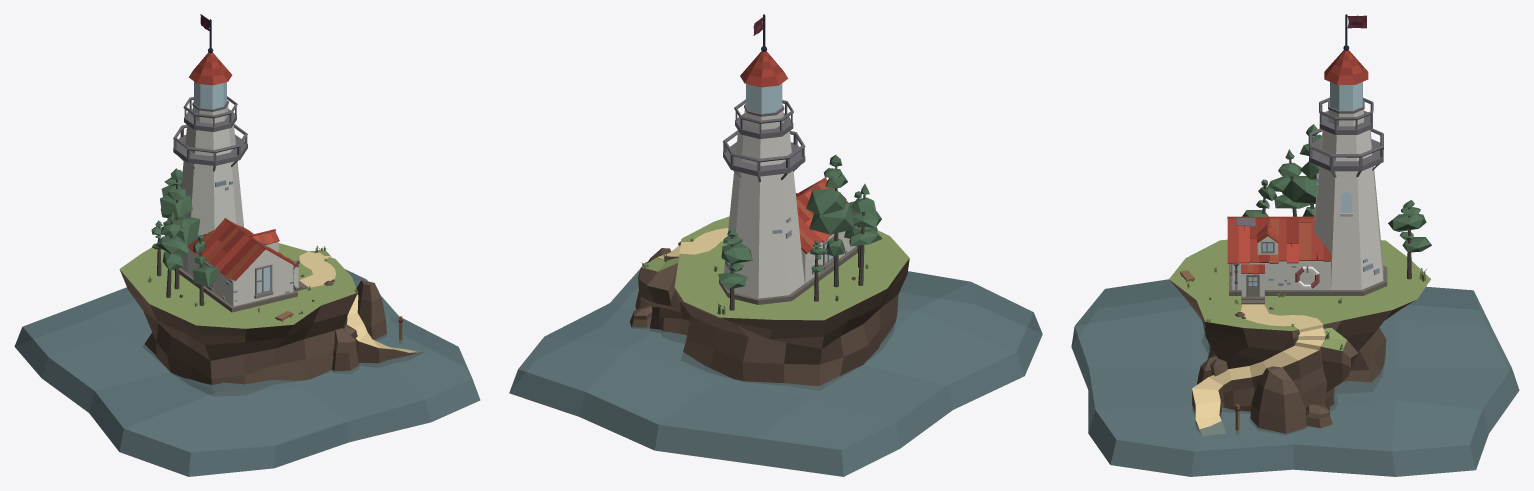
The model's file is harbour-lighthouse.glb.
3 views of the same model, side by side, from view 1: azimuth 30°, elevation 25°; view 2: azimuth 150°, elevation 25°; view 3: azimuth 270°, elevation 25° (orthographic). The views are drawn at different scales.
Visible parts, largest first — view 1: Cube.036, Cube.001, Cylinder, Cube.002, Cylinder.031, Cylinder.033, Cylinder.009, Cylinder.001, Cylinder.004, Cube.028, Icosphere.007, Icosphere.006 (+1 smaller); view 2: Cube.036, Cube.001, Cylinder, Cube.127, Cylinder.009, Cylinder.001, Cylinder.004, Cube.028, Icosphere.007, Icosphere.006, Cylinder.002, Cube.002; view 3: Cube.036, Cube.001, Cylinder, Cylinder.031, Cube.002, Cube.127, Cylinder.009, Cylinder.001, Cube.028, Cylinder.004, Icosphere.007, Cylinder.002 (+5 smaller).
Boxes of the visible parts, x1,y1,x2,y2 form: Cube.036: (14, 269, 480, 476); Cube.001: (119, 243, 422, 395); Cylinder: (181, 125, 244, 272); Cube.002: (187, 247, 293, 306); Cylinder.031: (356, 280, 386, 340); Cylinder.033: (332, 328, 358, 373); Cylinder.009: (188, 52, 232, 85); Cylinder.001: (173, 134, 247, 165); Cylinder.004: (194, 81, 226, 109); Cube.028: (173, 268, 297, 312); Icosphere.007: (163, 216, 200, 245); Icosphere.006: (160, 195, 192, 217); Cube.036: (509, 261, 1042, 476); Cube.001: (649, 216, 909, 390); Cylinder: (724, 131, 804, 298); Cube.127: (638, 257, 680, 312); Cylinder.009: (740, 51, 788, 87); Cylinder.001: (723, 142, 805, 176); Cylinder.004: (746, 83, 782, 113); Cube.028: (719, 245, 857, 304); Icosphere.007: (809, 202, 855, 234); Icosphere.006: (806, 188, 846, 215); Cylinder.002: (735, 113, 793, 138); Cube.002: (801, 231, 855, 283); Cube.036: (1071, 279, 1519, 476); Cube.001: (1169, 239, 1430, 435); Cylinder: (1314, 129, 1383, 289); Cylinder.031: (1250, 366, 1306, 434); Cube.002: (1232, 219, 1330, 289); Cube.127: (1321, 327, 1358, 392); Cylinder.009: (1324, 50, 1368, 84); Cylinder.001: (1309, 139, 1383, 171); Cube.028: (1229, 263, 1387, 295); Cylinder.004: (1330, 82, 1362, 110); Icosphere.007: (1282, 176, 1316, 203); Cylinder.002: (1319, 110, 1372, 134).
Bounding box in the file's own units: 2541 × 2387 × 2642.
